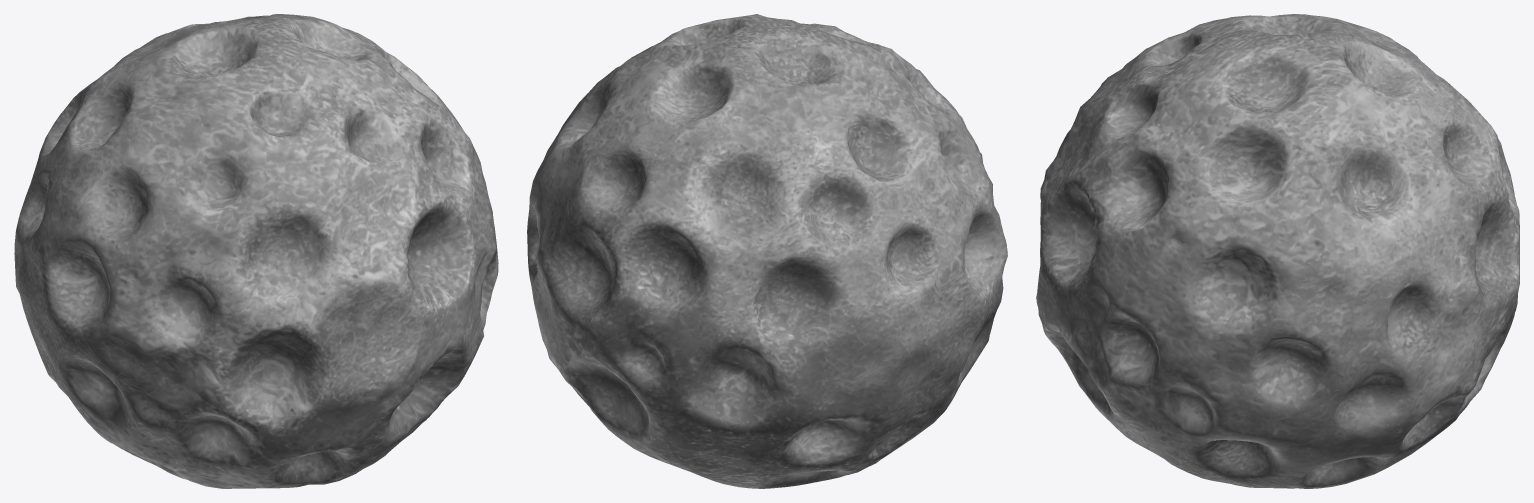
The model's file is big_01.glb.
3 renders of one model, left to right at view 1: azimuth 30°, elevation 25°; view 2: azimuth 150°, elevation 25°; view 3: azimuth 270°, elevation 25°, orthographic.
Visible parts, largest first — view 1: big_01; view 2: big_01; view 3: big_01.
Part boxes in pixels (x1,y1,x2,y2): big_01: (14, 14, 498, 488); big_01: (527, 14, 1007, 488); big_01: (1036, 14, 1519, 488).
Size of the model in its own units: 1.94 by 1.92 by 1.93.
1 material, 1 textured.
